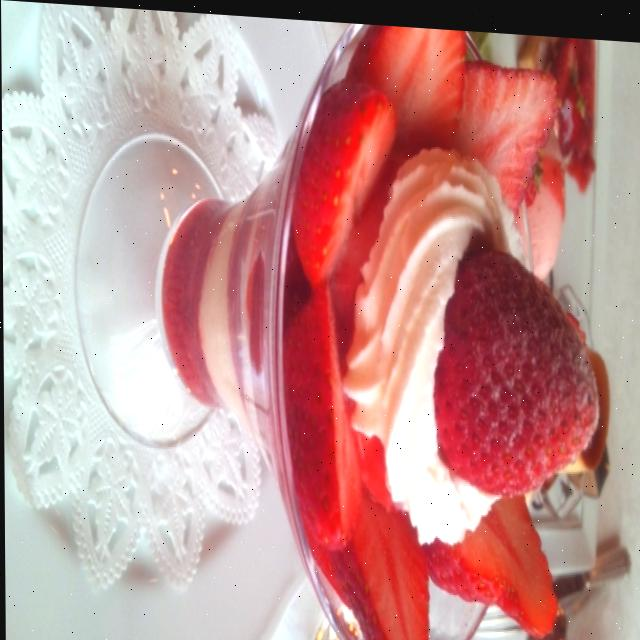蛋糕甜品: (0, 0, 627, 640)
